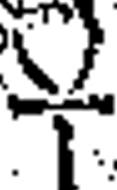Ankh: (10, 5, 115, 190)
